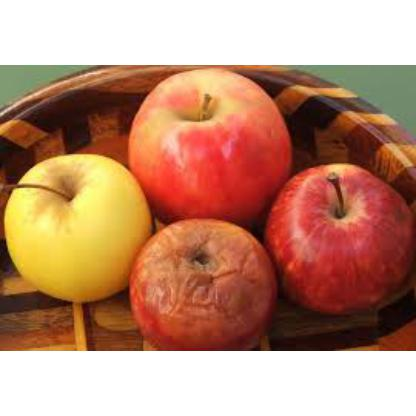apple: (130, 70, 286, 210), (279, 166, 411, 304), (7, 167, 150, 277)
damaged_apple: (126, 218, 274, 346)
